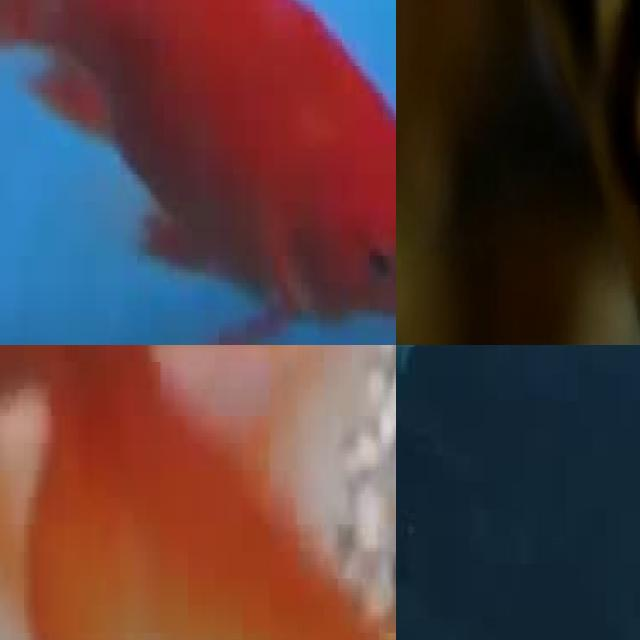fish: (0, 0, 396, 345), (450, 0, 640, 345)
